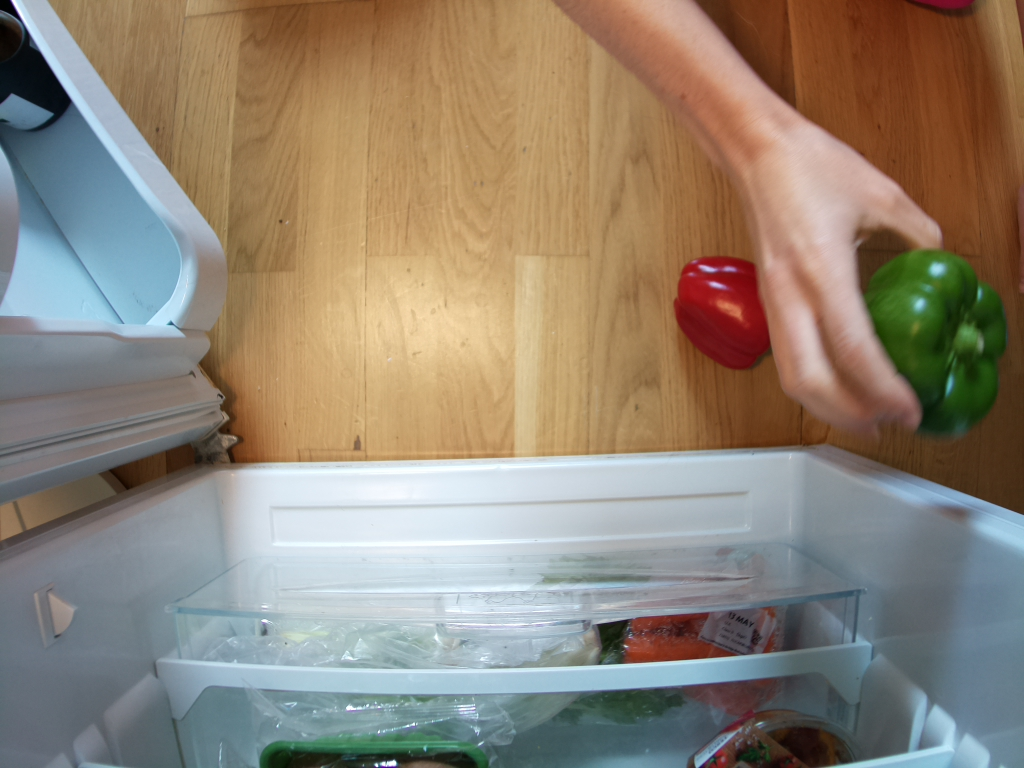pepper: (865, 253, 1002, 437), (676, 256, 776, 373)
